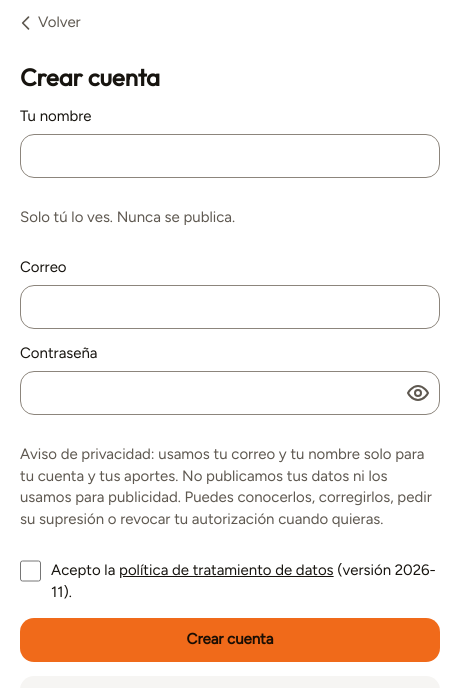
crear cuenta › con un nombre que no vale («Ana2») no crea la cuenta y dice por qué
The width and height of the screenshot is (461, 688).
Type "Ana2" into the field labelled "Tu nombre". click: (230, 156)
box: left=20, top=134, right=440, bottom=178
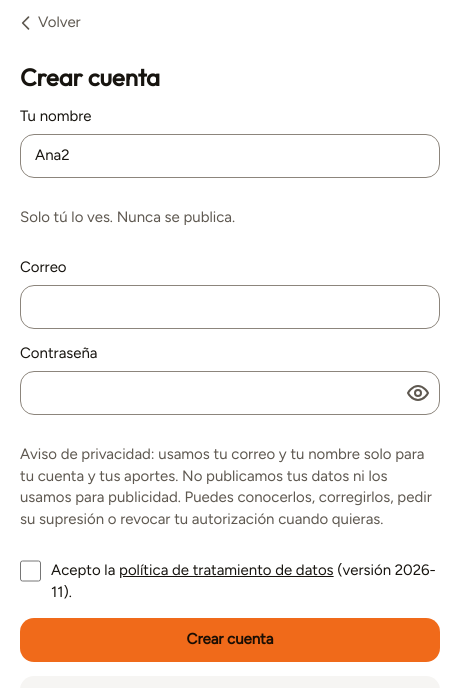
Type "ana@correo.co" into the field labelled "Correo". click: (230, 307)
box: left=20, top=285, right=440, bottom=329
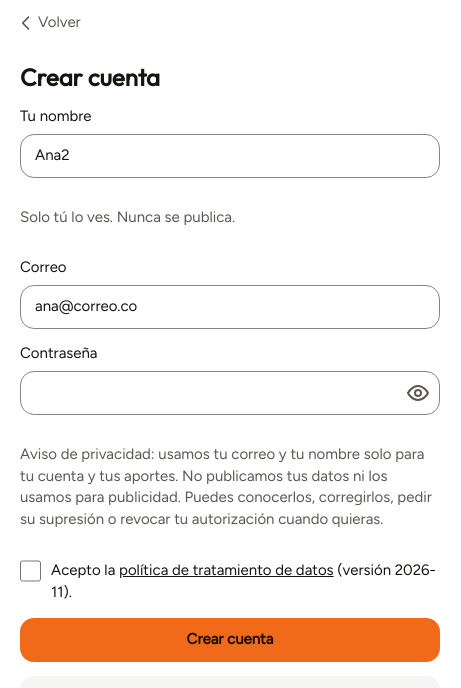
Type "una clave larga" into the password field labelled "Contraseña". click: (230, 393)
box: left=20, top=371, right=440, bottom=415
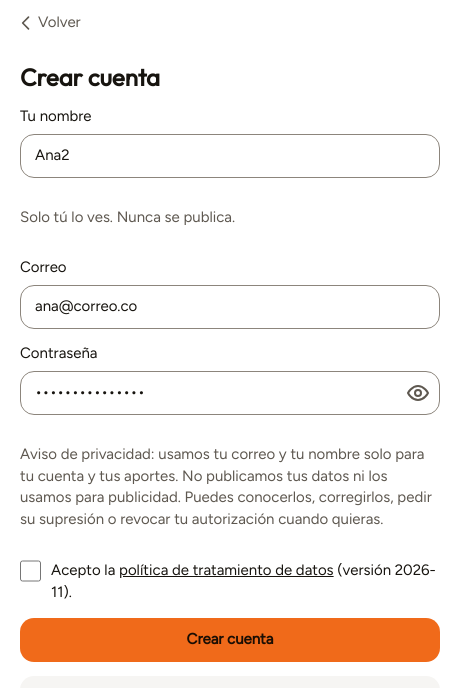
Click the checkbox labelled "política de tratamiento de datos". click: click(31, 571)
box: left=20, top=560, right=41, bottom=582
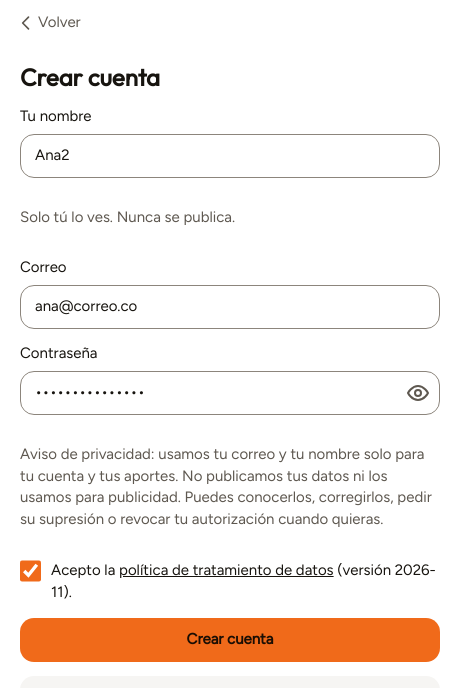
Click the button "Crear cuenta". click: click(230, 640)
box: left=20, top=618, right=440, bottom=662
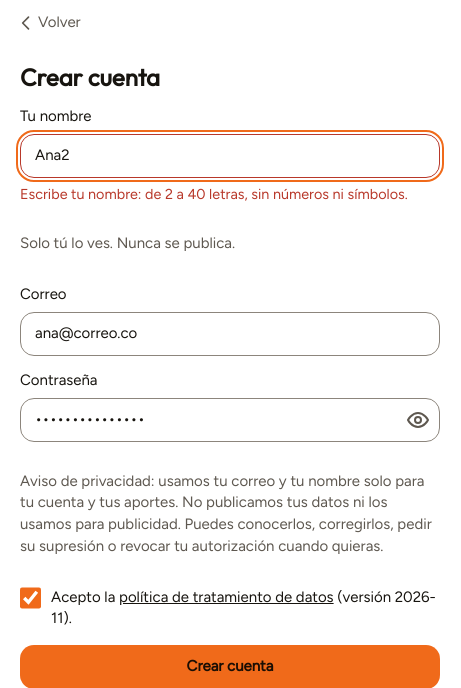
Expected: the message reads "Escribe tu nombre: de 2 a 40 letras, sin números ni símbolos.", left=20, top=184, right=408, bottom=202
